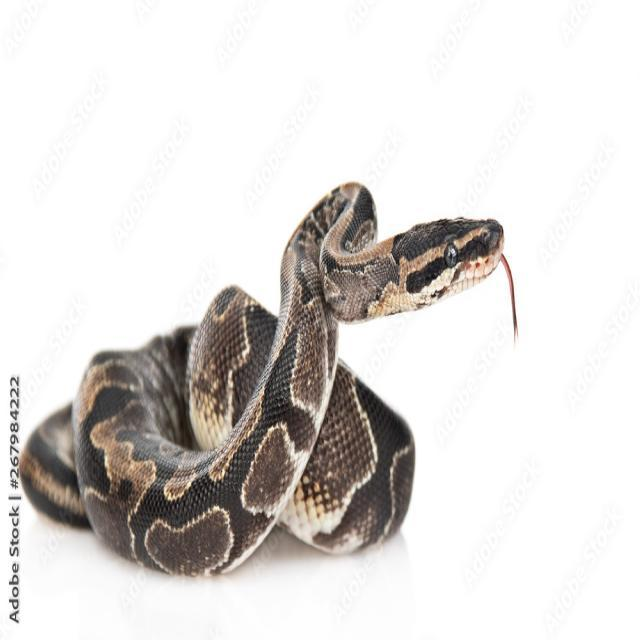Snake: (20, 168, 528, 622)
